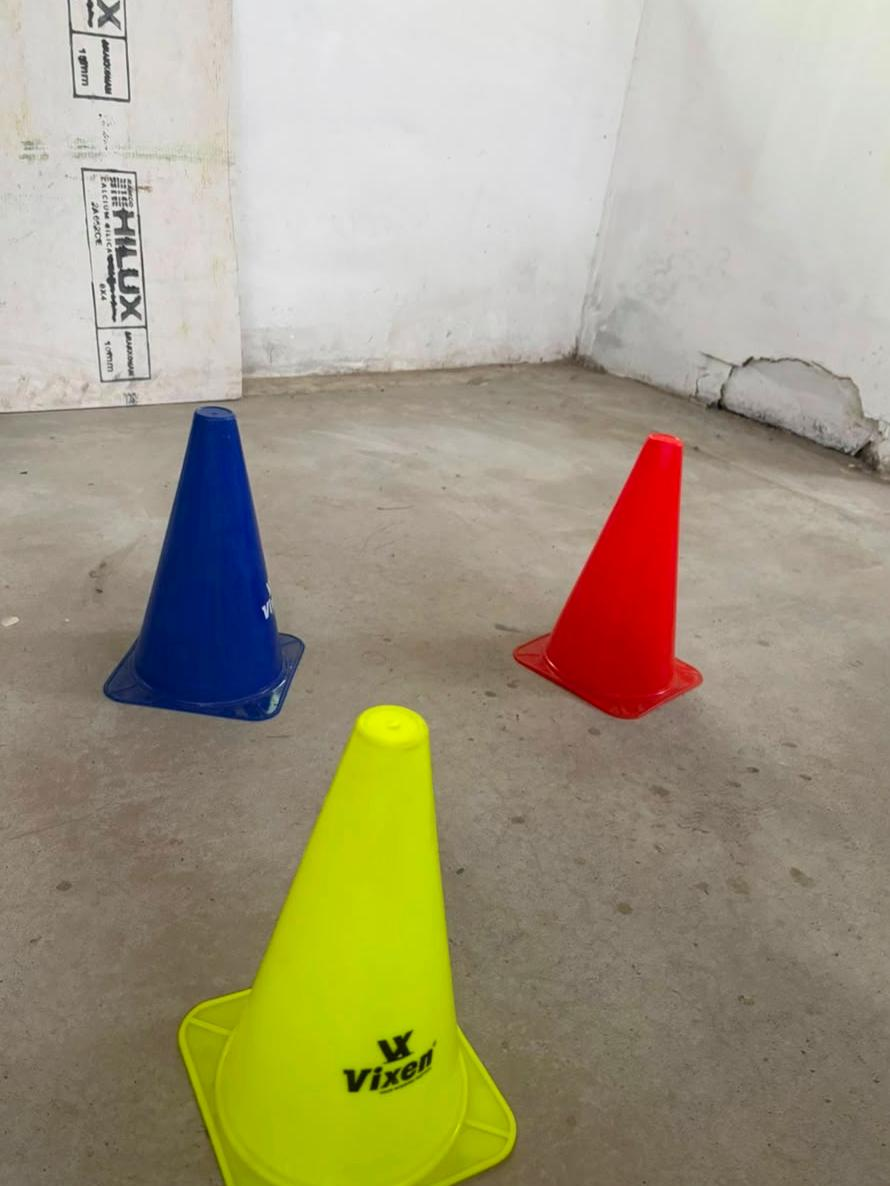0 cone: (180, 705, 515, 1186), (104, 407, 302, 720), (514, 434, 701, 718)
